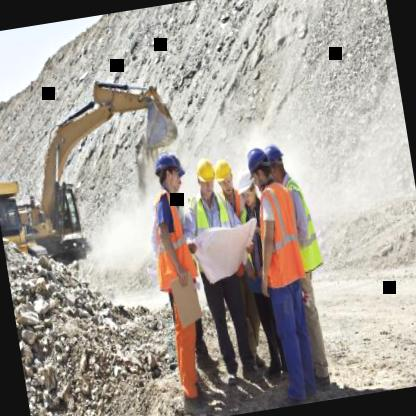helmet: (150, 145, 188, 199), (242, 140, 274, 190), (212, 158, 239, 202), (233, 166, 259, 209), (192, 154, 218, 196), (263, 144, 290, 184)
